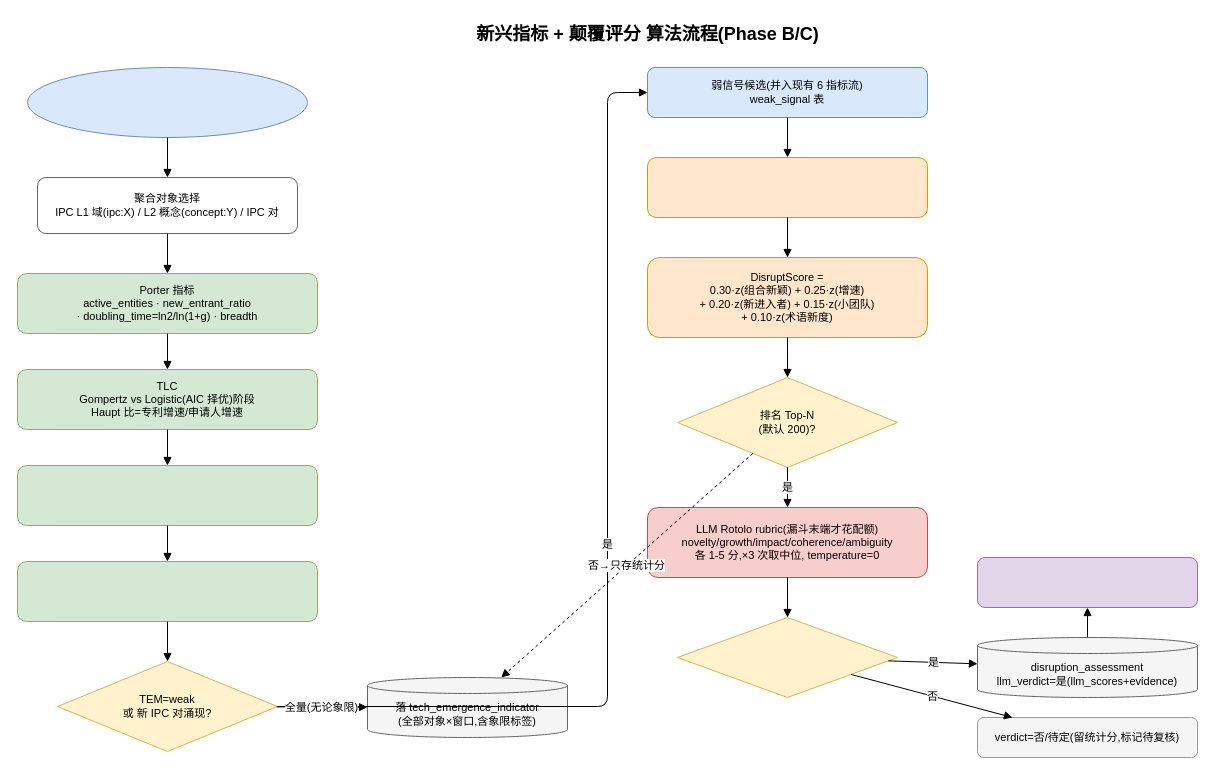
Image size: 1215x775. Some labels were removed from this diagram. Here are the shapes that lost their labels. From the top down, the box of each, then its label:
(26, 66, 308, 138): 输入:term_stats(窗口×术语×源) + ODS 原始行(IPC/applicant/filing_date)
(646, 156, 928, 218): 组合新颖性 文档 IPC 对中历史从未出现对占比 (窗口滚动,新概念加权)
(16, 464, 318, 526): TEM 象限 share(全窗均值份额) × growth 切点 x=全体均值, y=0
(16, 560, 318, 622): IPC 共类融合 对强度 Salton=C_AB/√(N_A·N_B) 按年滚动,新对=首现年近且强度升
(976, 556, 1198, 608): 下游:frontier 候选 → 扫描 → 选题 + NewTechDiscovery UI 颠覆性 Tab
(676, 616, 898, 698): 中位综合分 ≥ 阈值?
